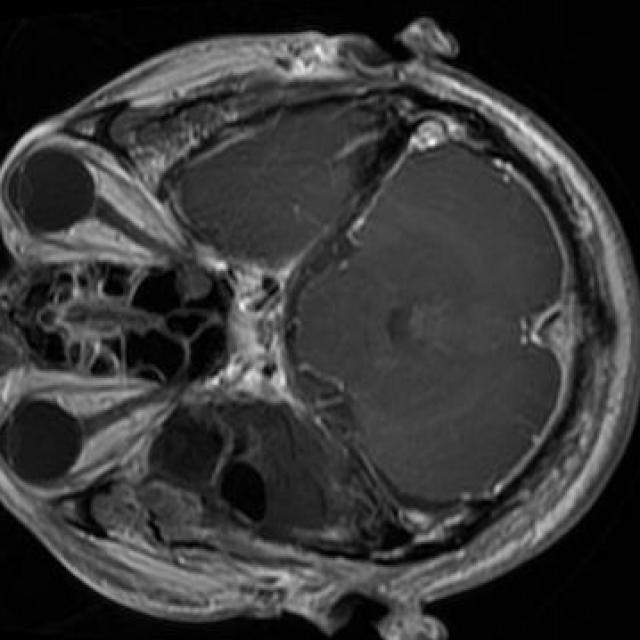glioma: (164, 405, 341, 533)
